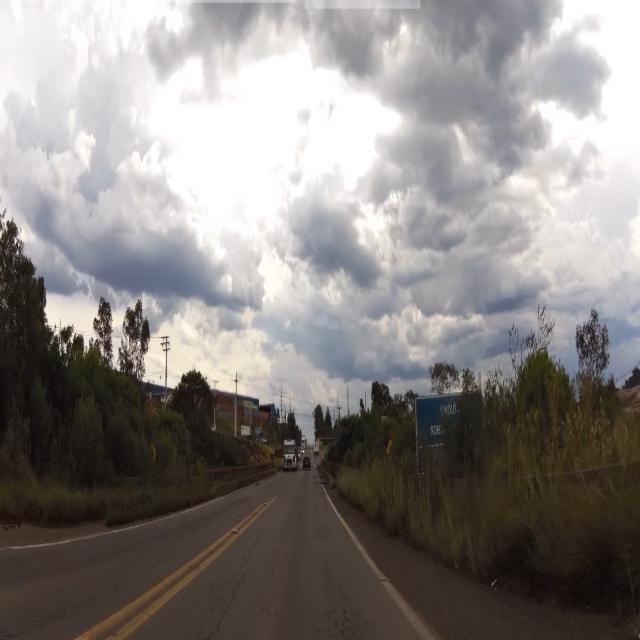LOC-6: (413, 392, 483, 470)
